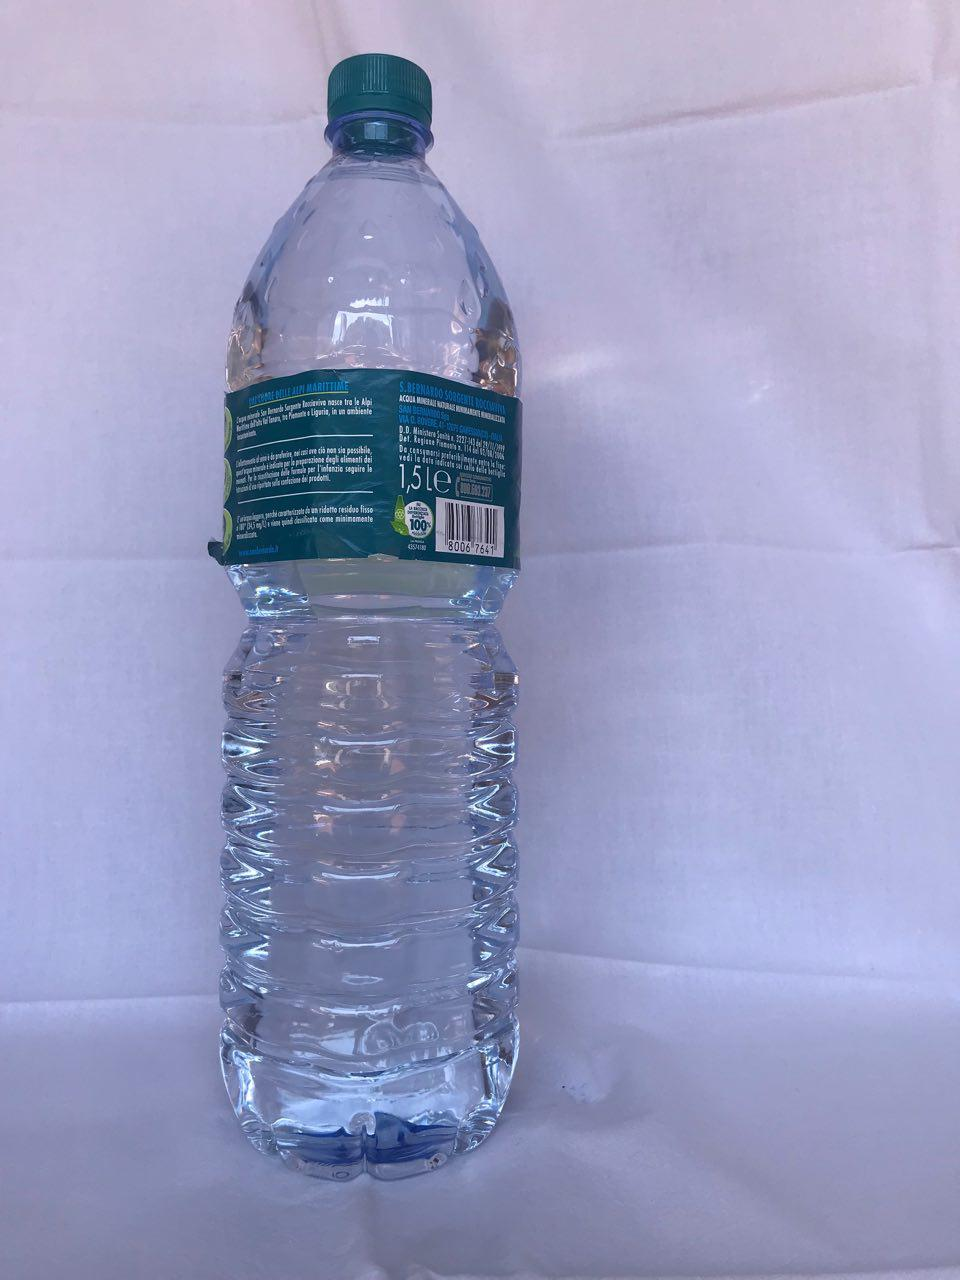san_bernardo: (216, 50, 527, 1181)
